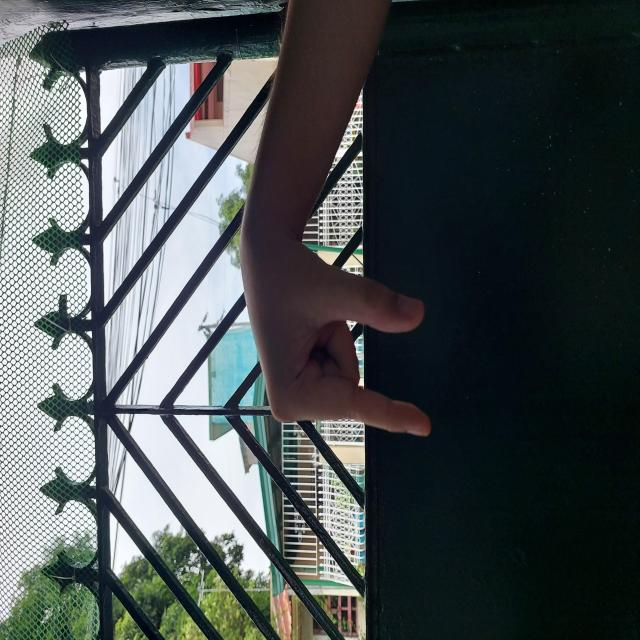Q: (202, 237, 399, 435)
